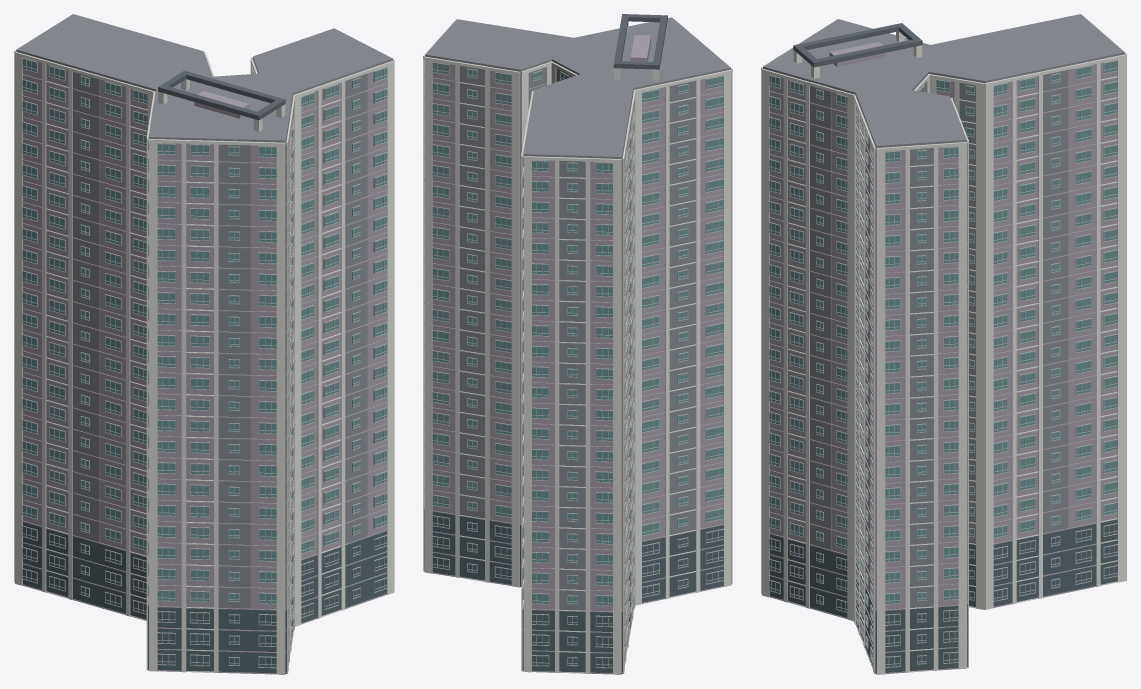
The model's file is bespoke-shinbanpo-xi-105.glb.
3 renders of one model, left to right at view 1: azimuth 30°, elevation 25°; view 2: azimuth 150°, elevation 25°; view 3: azimuth 270°, elevation 25°, orthographic. The views are drawn at different scales.
Parts seen in each view (by area): view 1: SBX105_editable_SBX105_lavender_grey_metallic_panels, SBX105_editable_SBX105_white_vertical_frame, SBX105_editable_SBX105_grey_inset_service_walls, SBX105_editable_SBX105_pale_teal_glazing, SBX105_editable_SBX105_thin_grey_window_mullions, SBX105_editable_SBX105_dark_glazed_base, SBX105_editable_SBX105_broad_charcoal_roof_caps; view 2: SBX105_editable_SBX105_white_vertical_frame, SBX105_editable_SBX105_grey_inset_service_walls, SBX105_editable_SBX105_lavender_grey_metallic_panels, SBX105_editable_SBX105_pale_teal_glazing, SBX105_editable_SBX105_thin_grey_window_mullions, SBX105_editable_SBX105_dark_glazed_base, SBX105_editable_SBX105_broad_charcoal_roof_caps; view 3: SBX105_editable_SBX105_white_vertical_frame, SBX105_editable_SBX105_lavender_grey_metallic_panels, SBX105_editable_SBX105_grey_inset_service_walls, SBX105_editable_SBX105_thin_grey_window_mullions, SBX105_editable_SBX105_pale_teal_glazing, SBX105_editable_SBX105_dark_glazed_base, SBX105_editable_SBX105_broad_charcoal_roof_caps.
Boxes of the visible parts, bbox=[...] form: SBX105_editable_SBX105_lavender_grey_metallic_panels: bbox=[14, 51, 392, 674]; SBX105_editable_SBX105_white_vertical_frame: bbox=[14, 50, 394, 674]; SBX105_editable_SBX105_grey_inset_service_walls: bbox=[16, 14, 392, 608]; SBX105_editable_SBX105_pale_teal_glazing: bbox=[22, 59, 386, 603]; SBX105_editable_SBX105_thin_grey_window_mullions: bbox=[21, 58, 388, 668]; SBX105_editable_SBX105_dark_glazed_base: bbox=[22, 522, 386, 673]; SBX105_editable_SBX105_broad_charcoal_roof_caps: bbox=[158, 70, 285, 120]; SBX105_editable_SBX105_white_vertical_frame: bbox=[423, 19, 732, 674]; SBX105_editable_SBX105_grey_inset_service_walls: bbox=[425, 17, 730, 610]; SBX105_editable_SBX105_lavender_grey_metallic_panels: bbox=[423, 35, 732, 674]; SBX105_editable_SBX105_pale_teal_glazing: bbox=[432, 63, 723, 605]; SBX105_editable_SBX105_thin_grey_window_mullions: bbox=[431, 62, 724, 668]; SBX105_editable_SBX105_dark_glazed_base: bbox=[424, 510, 723, 673]; SBX105_editable_SBX105_broad_charcoal_roof_caps: bbox=[613, 14, 667, 69]; SBX105_editable_SBX105_white_vertical_frame: bbox=[761, 16, 1126, 674]; SBX105_editable_SBX105_lavender_grey_metallic_panels: bbox=[761, 42, 1124, 674]; SBX105_editable_SBX105_grey_inset_service_walls: bbox=[763, 14, 1124, 607]; SBX105_editable_SBX105_thin_grey_window_mullions: bbox=[767, 60, 1119, 667]; SBX105_editable_SBX105_pale_teal_glazing: bbox=[769, 61, 1117, 603]; SBX105_editable_SBX105_dark_glazed_base: bbox=[769, 519, 1117, 673]; SBX105_editable_SBX105_broad_charcoal_roof_caps: bbox=[793, 23, 922, 67].
Bounding box in the file's own units: 38.86 × 73.6 × 44.89.
